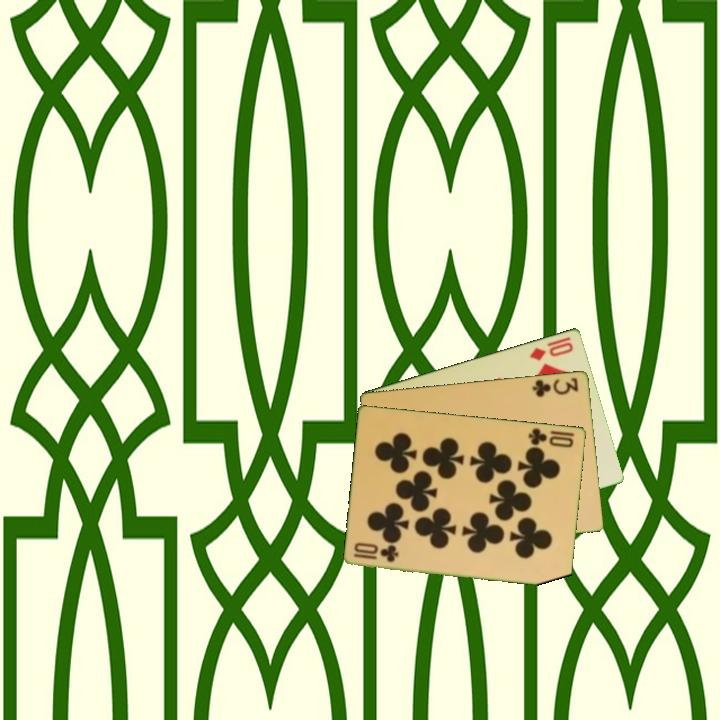10c: (525, 424, 577, 450), (350, 540, 402, 565)
10d: (526, 338, 576, 363)
3c: (529, 374, 581, 399)
